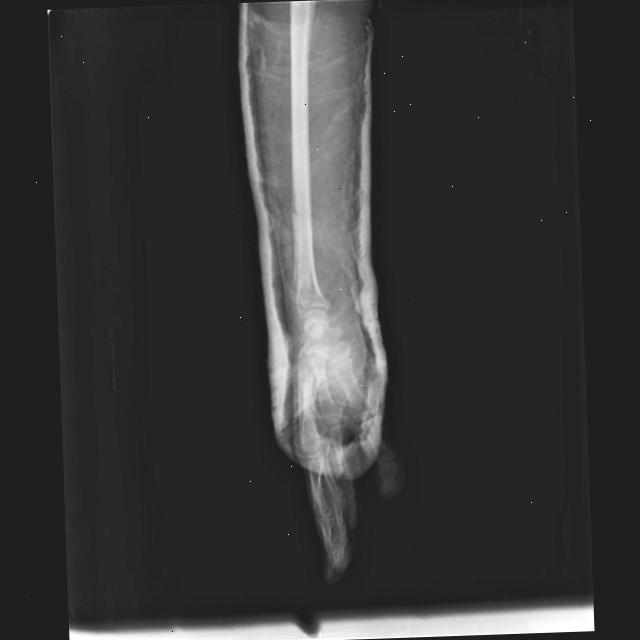Fracture: (287, 197, 312, 232)
